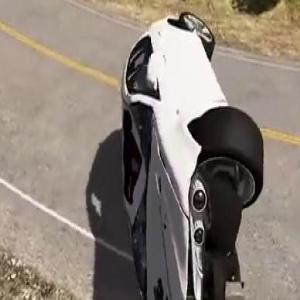critical: (116, 0, 268, 300)
